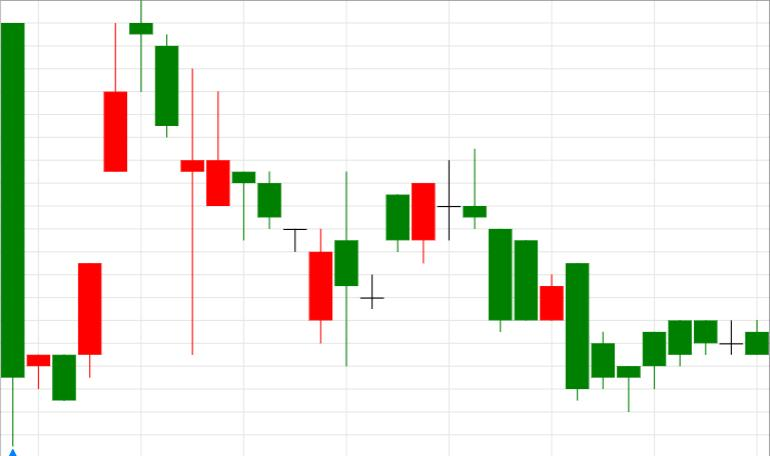evening_star_fall: (27, 1, 179, 401)
